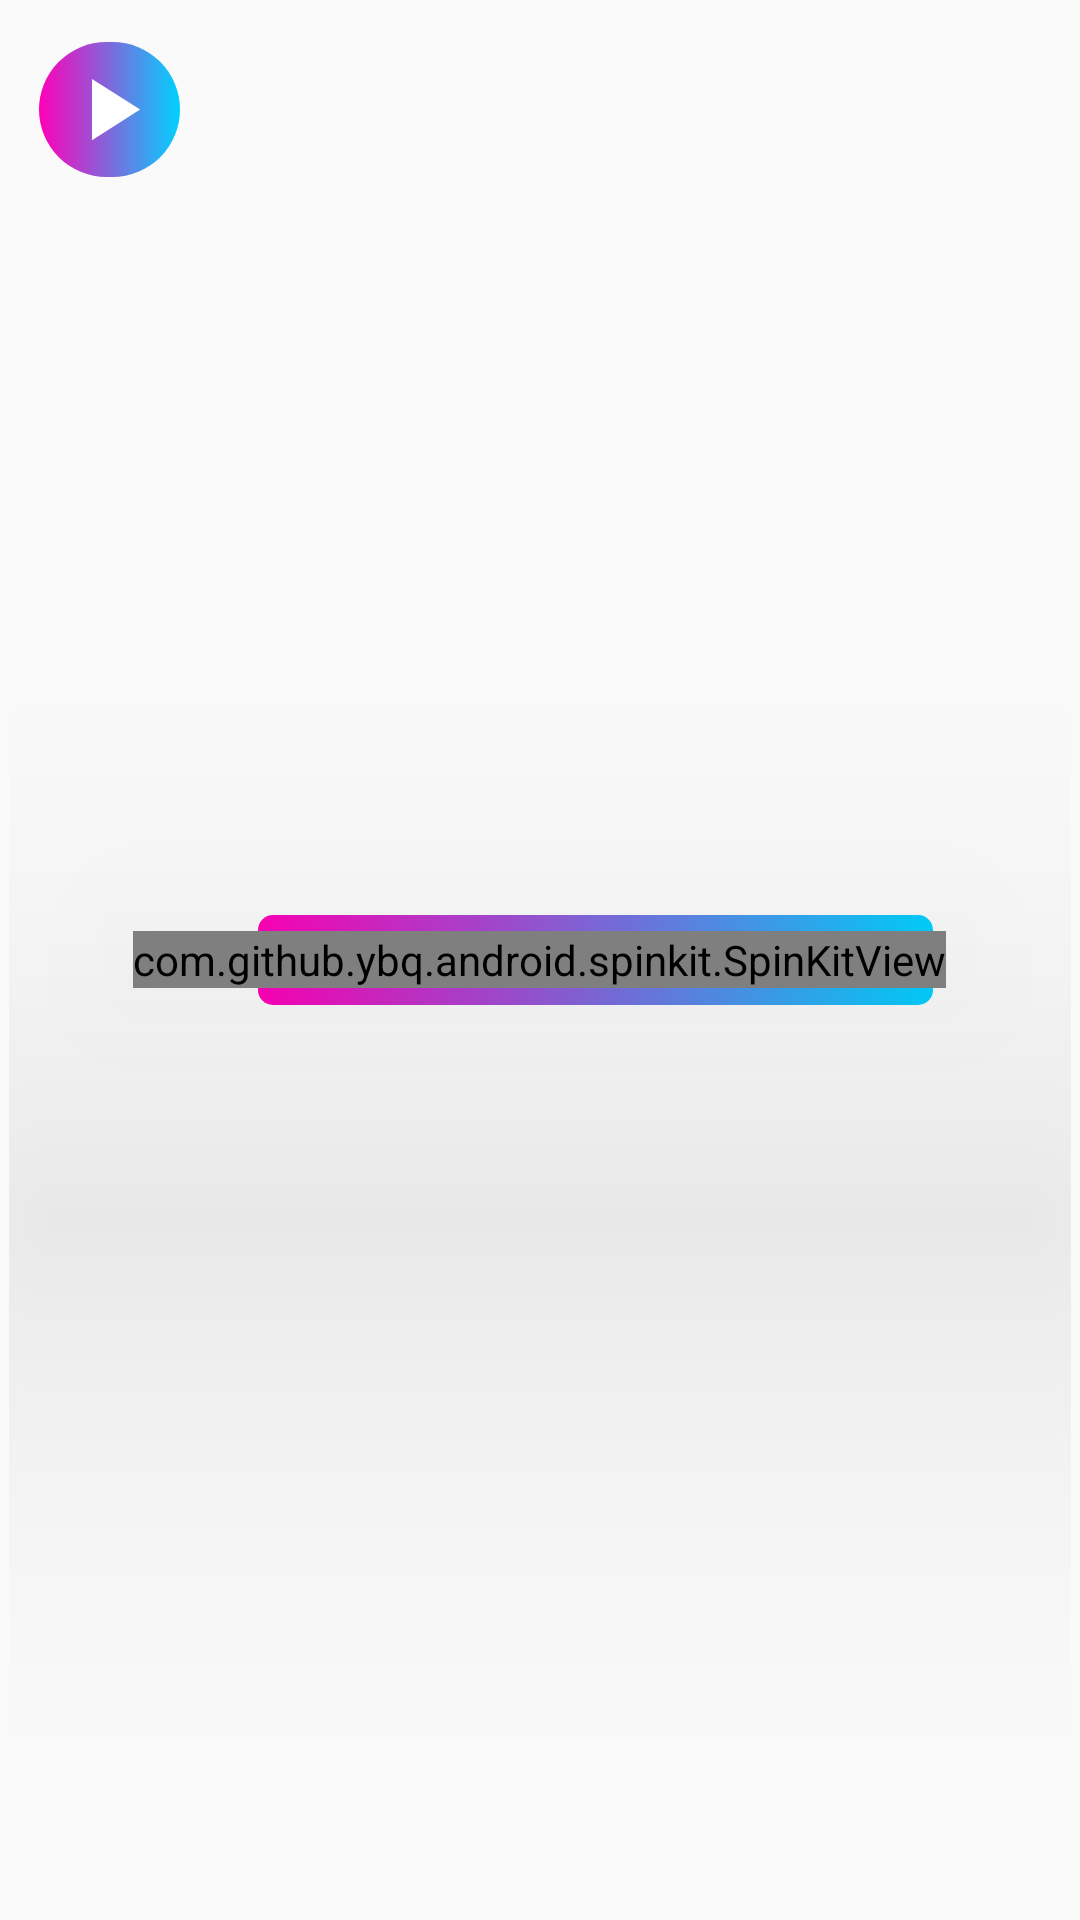

Screen size 1080 × 1920. Icon name, then its center in pixels as [x,y]:
play: [109,109]
